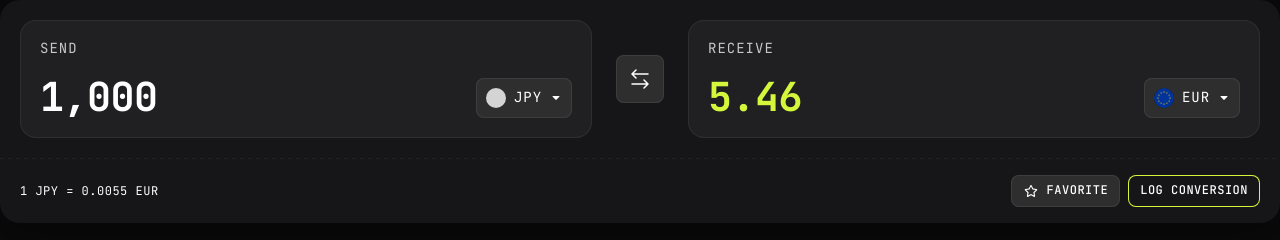
Scenario: Converter › preserves significant digits for small converted amounts
Replace the text in the field named "Amount" below "Send" with "1" at (99,97), box [40,77,158,118]
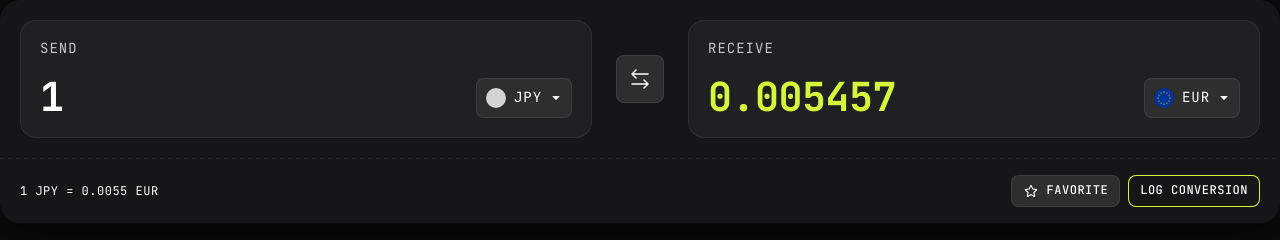
Check: the field named "Amount" below "Receive" holds "0.005457", box [708,77,896,118]
